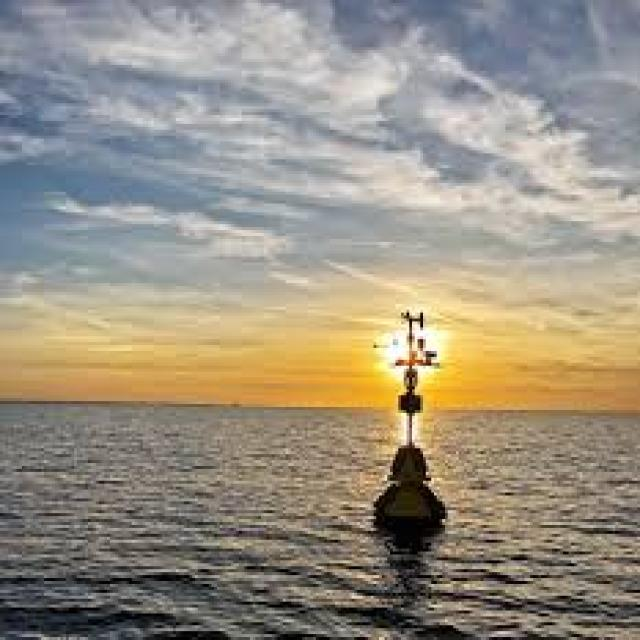marque: (374, 301, 464, 551)
